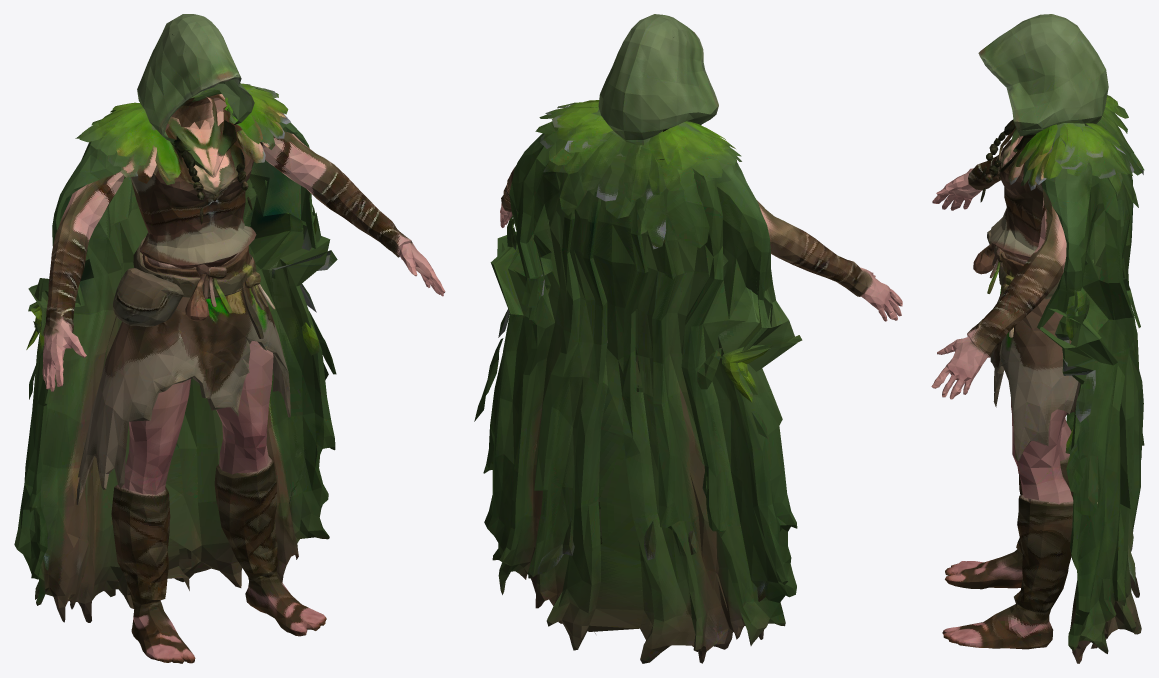
Rendered from ewm_t2shaman_outfit.glb.
3 views of the same model, side by side, from view 1: azimuth 30°, elevation 25°; view 2: azimuth 150°, elevation 25°; view 3: azimuth 270°, elevation 25° (orthographic).
Visible parts, largest first — view 1: ewm_t2shaman_outfit; view 2: ewm_t2shaman_outfit; view 3: ewm_t2shaman_outfit.
Boxes of the visible parts, left/top/right/bottom form: ewm_t2shaman_outfit: left=14, top=14, right=445, bottom=663; ewm_t2shaman_outfit: left=474, top=14, right=902, bottom=663; ewm_t2shaman_outfit: left=931, top=14, right=1144, bottom=663.
Size of the model in its own units: 1.28 by 1.88 by 0.606.
Materials: 1 (1 with a texture image).
